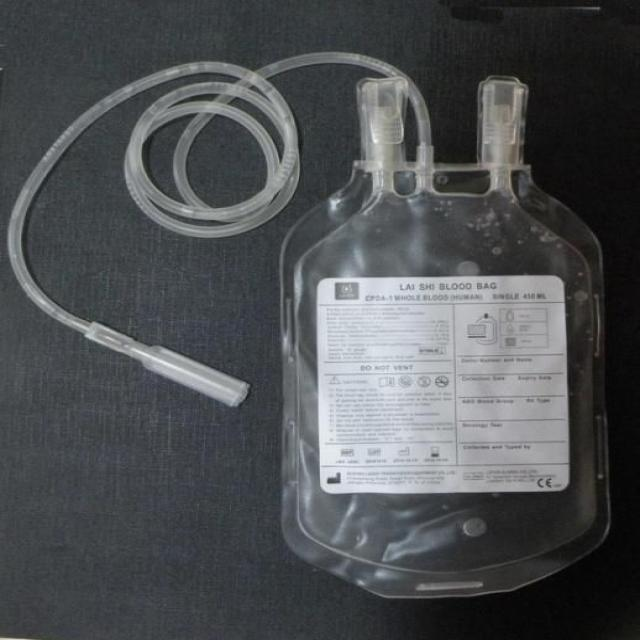B3: (282, 112, 610, 613)
